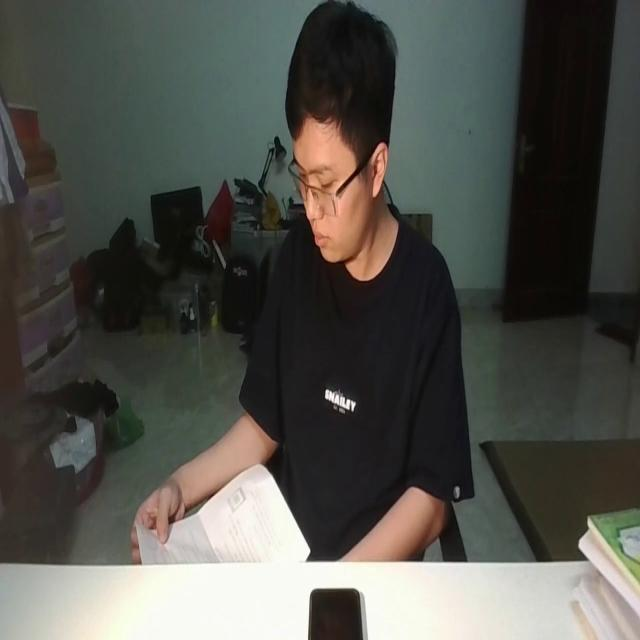book: (133, 461, 311, 564)
phone: (306, 584, 364, 640)
student: (130, 0, 474, 560)
